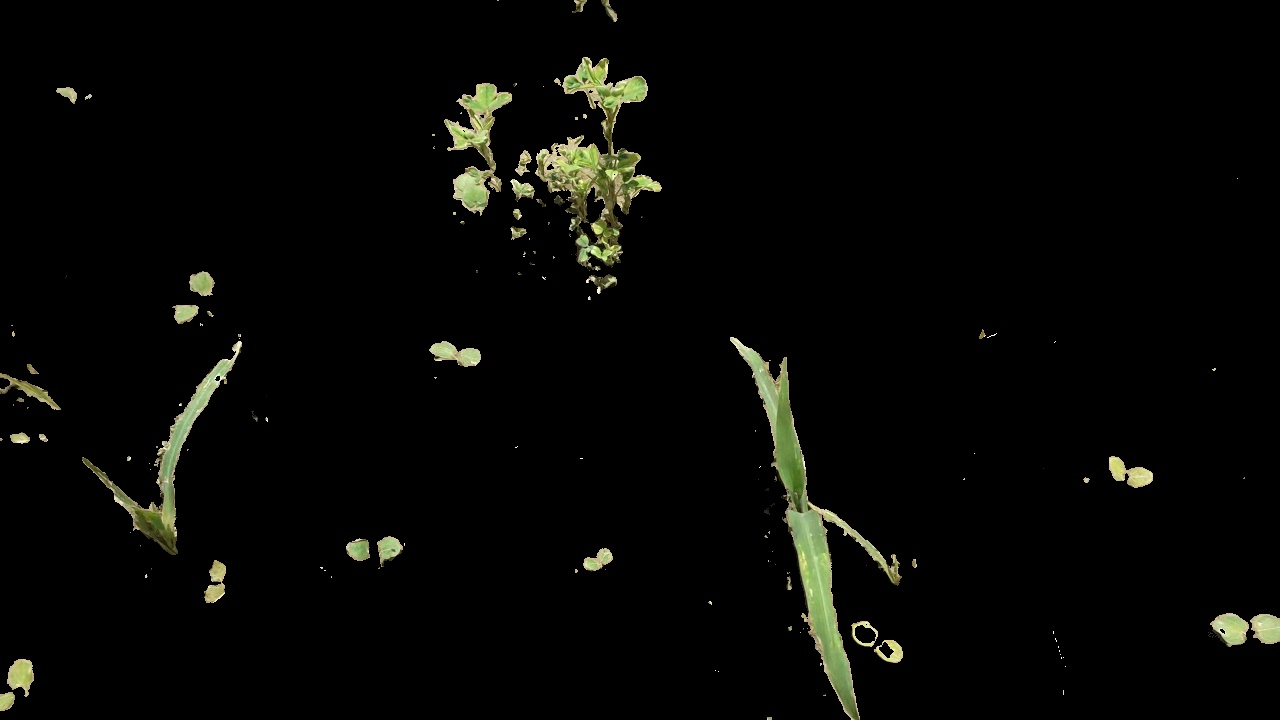crop: (728, 334, 906, 599), (81, 331, 255, 553)
weed: (425, 51, 669, 302), (1204, 599, 1280, 653), (172, 262, 219, 328), (851, 608, 904, 664), (344, 530, 407, 570), (2, 650, 39, 718), (425, 334, 485, 373), (1108, 449, 1154, 492), (199, 561, 232, 604), (580, 541, 615, 571)
